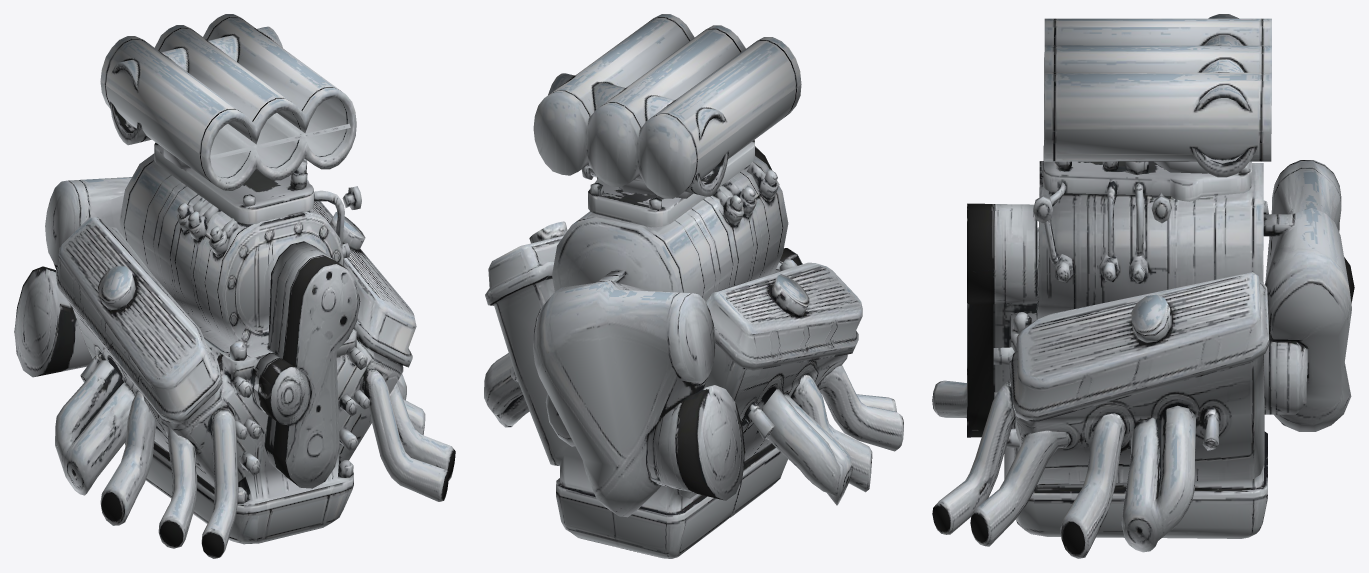
The model's file is donnerbuechse-big_engine.glb.
3 views of the same model, side by side, from view 1: azimuth 30°, elevation 25°; view 2: azimuth 150°, elevation 25°; view 3: azimuth 270°, elevation 25° (orthographic). The views are drawn at different scales.
Visible parts, largest first — view 1: tripo_node_66b5fcd6-0776-4d12-ba26-d16229a6d001; view 2: tripo_node_66b5fcd6-0776-4d12-ba26-d16229a6d001; view 3: tripo_node_66b5fcd6-0776-4d12-ba26-d16229a6d001.
Part boxes in pixels (x1=…): tripo_node_66b5fcd6-0776-4d12-ba26-d16229a6d001: x1=14, y1=14, x2=455, y2=558; tripo_node_66b5fcd6-0776-4d12-ba26-d16229a6d001: x1=484, y1=14, x2=903, y2=558; tripo_node_66b5fcd6-0776-4d12-ba26-d16229a6d001: x1=932, y1=14, x2=1354, y2=558.
Bounding box in the file's own units: 0.3206 × 0.3944 × 0.3232.
Materials: 1 (1 with a texture image).
